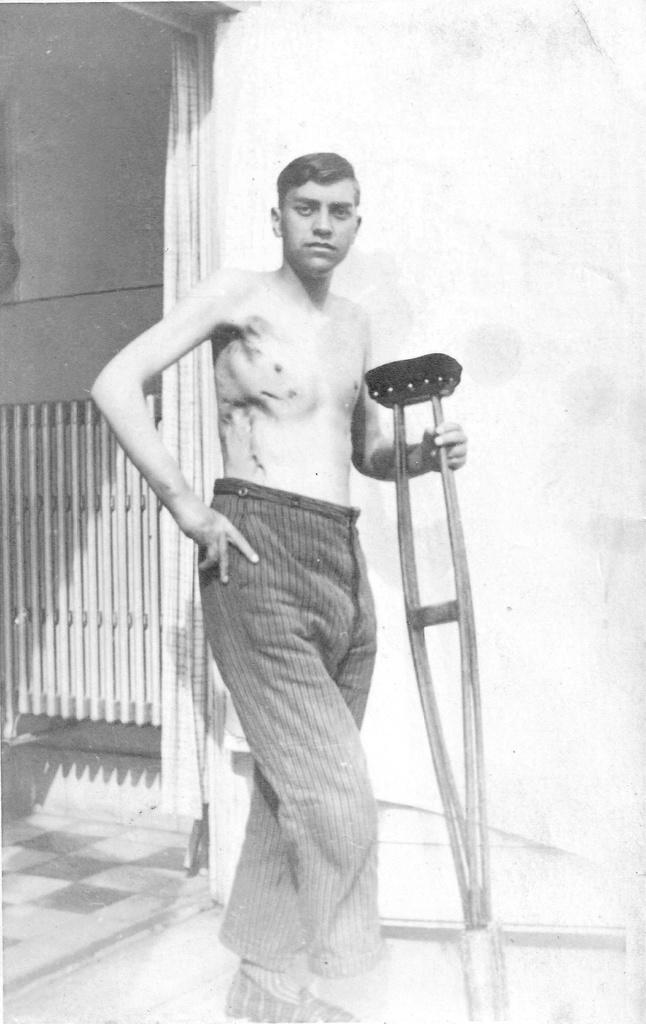crutches: (74, 142, 520, 1024)
